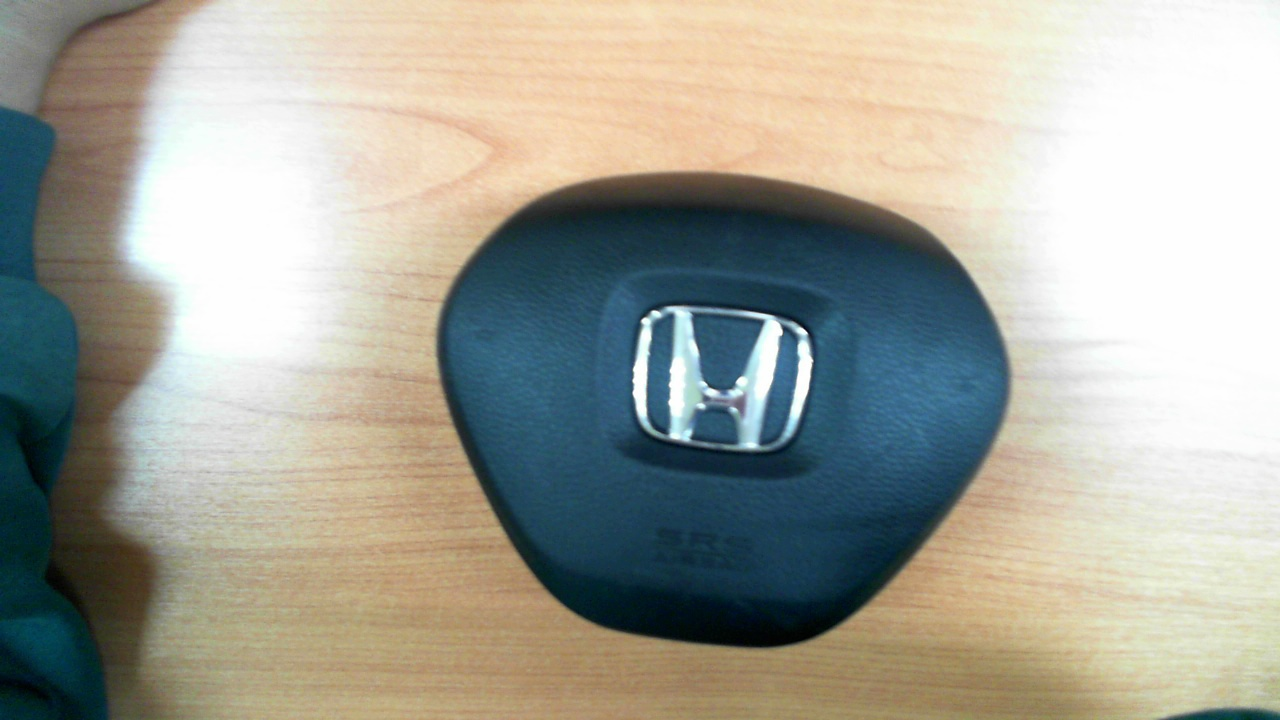Airbag: (435, 172, 1012, 648)
Honda: (628, 301, 817, 450)
